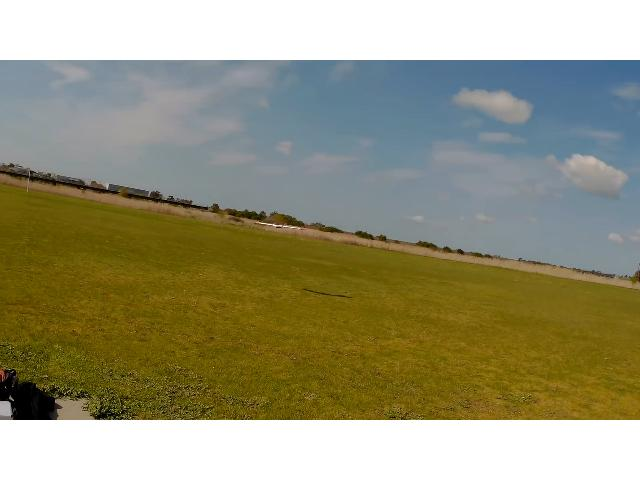Anti-Drone: (257, 222, 305, 230)
